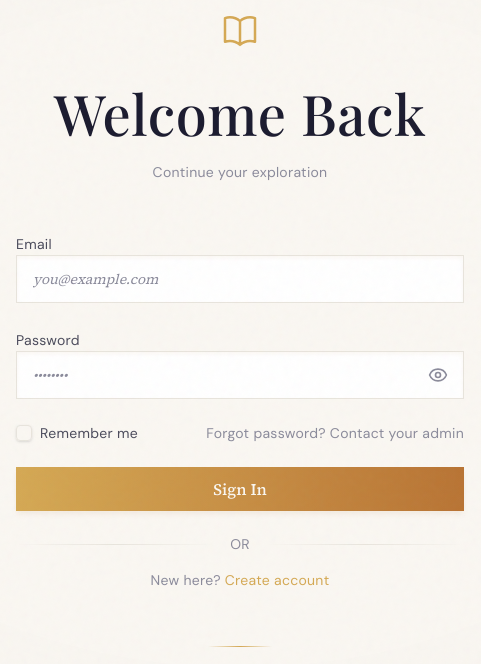
Test: LoginPage › Loading States › should disable form during submission
Step 1. Type "test@example.com" into the field labelled "Email" → (240, 279), box [16,255,464,303]
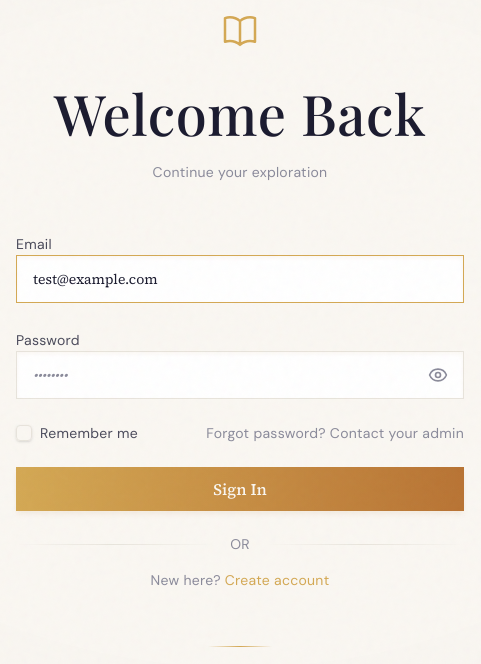
Step 2. Type "password123" into the password field labelled "Password" → (240, 375), box [16,351,464,399]
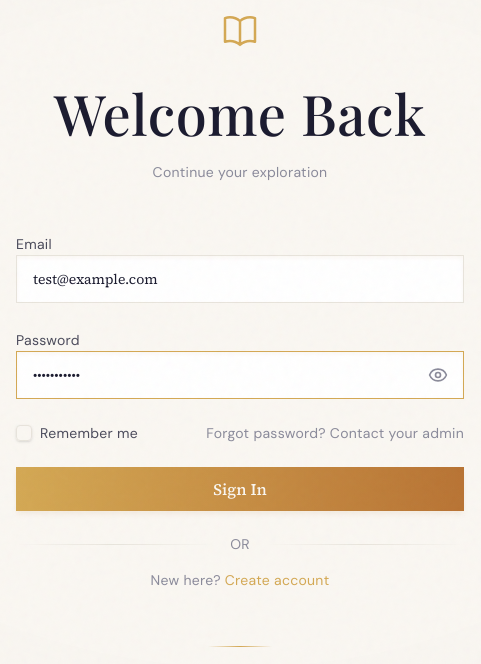
Step 3. Click the button "Sign In" → click(240, 489), box [16,467,464,511]
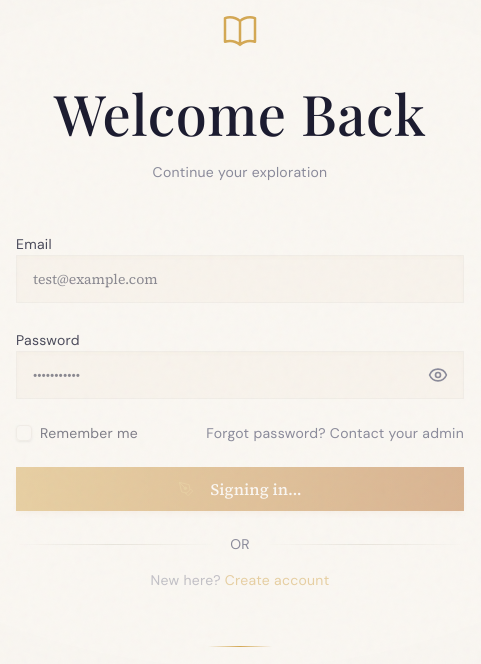
Result: the field labelled "Email" is disabled at [16,255,464,303]
Result: the password field labelled "Password" is disabled at [16,351,464,399]
Result: the button named "sign in" is disabled at [16,467,464,511]
